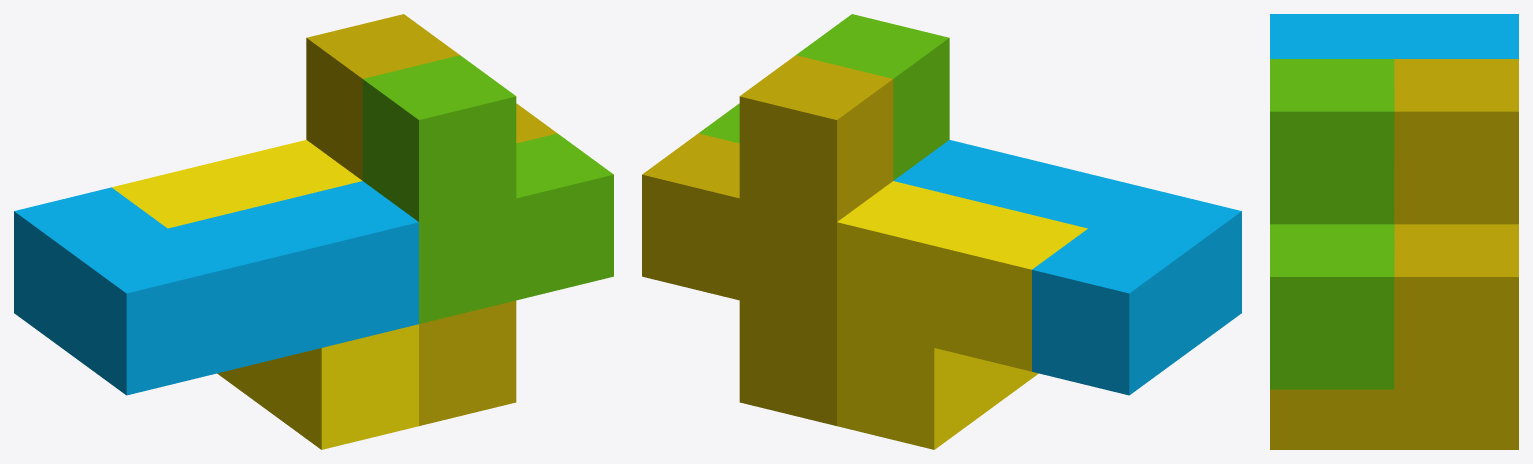
3 renders of one model, left to right at view 1: azimuth 30°, elevation 25°; view 2: azimuth 150°, elevation 25°; view 3: azimuth 270°, elevation 25°, orthographic. The views are drawn at different scales.
Visible parts, largest first — view 1: mergedBlocks(Clone); view 2: mergedBlocks(Clone); view 3: mergedBlocks(Clone).
Part boxes in pixels (box(x1,y1,x2,y2)): mergedBlocks(Clone): box(14, 14, 613, 449); mergedBlocks(Clone): box(642, 14, 1241, 449); mergedBlocks(Clone): box(1270, 14, 1518, 449).
Bounding box in the file's own units: 5 × 3 × 2.
Materials: 4 (4 with a texture image).
